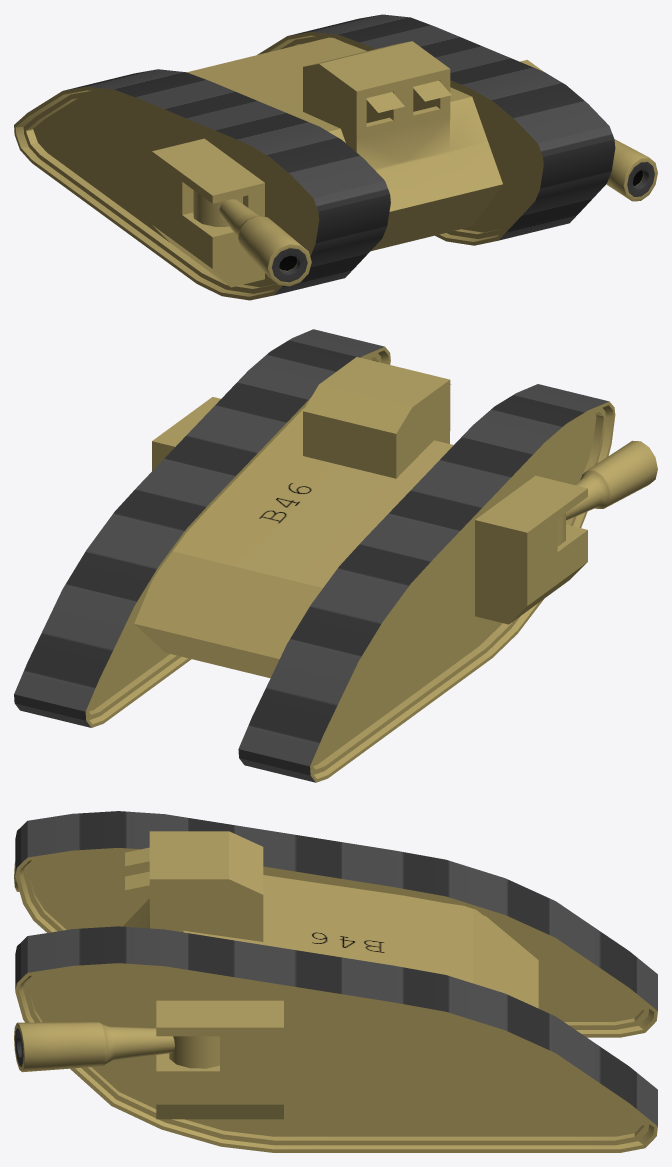
File: Mark I .fbx
3 renders of one model, top to bottom at view 1: azimuth 30°, elevation 25°; view 2: azimuth 150°, elevation 25°; view 3: azimuth 270°, elevation 25°, orthographic. The views are drawn at different scales.
Visible parts, largest first — view 1: Esteiras, Body, Turret; view 2: Esteiras, Body, Turret; view 3: Esteiras, Body, Turret.
Boxes of the visible parts, x1,y1,x2,y2 form: Esteiras: [14, 14, 615, 300]; Body: [187, 37, 502, 250]; Turret: [193, 139, 657, 286]; Esteiras: [14, 329, 615, 782]; Body: [134, 357, 453, 678]; Turret: [557, 440, 657, 546]; Esteiras: [15, 811, 657, 1152]; Body: [123, 831, 538, 1008]; Turret: [14, 862, 219, 1072].
Bounding box in the file's own units: 3.19 × 1.65 × 4.33.
